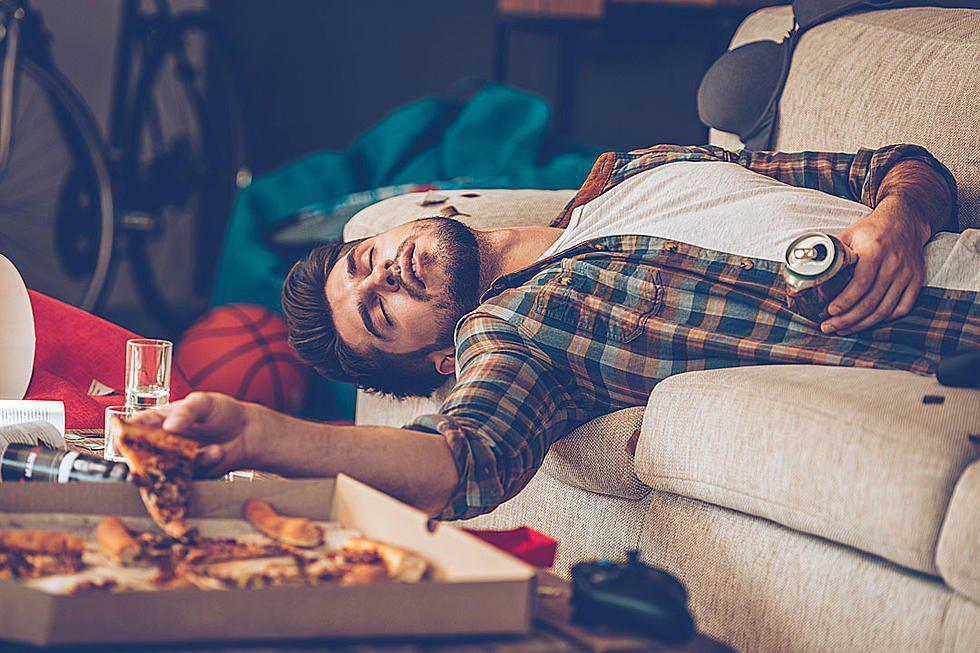Drunk: (326, 219, 460, 341)
